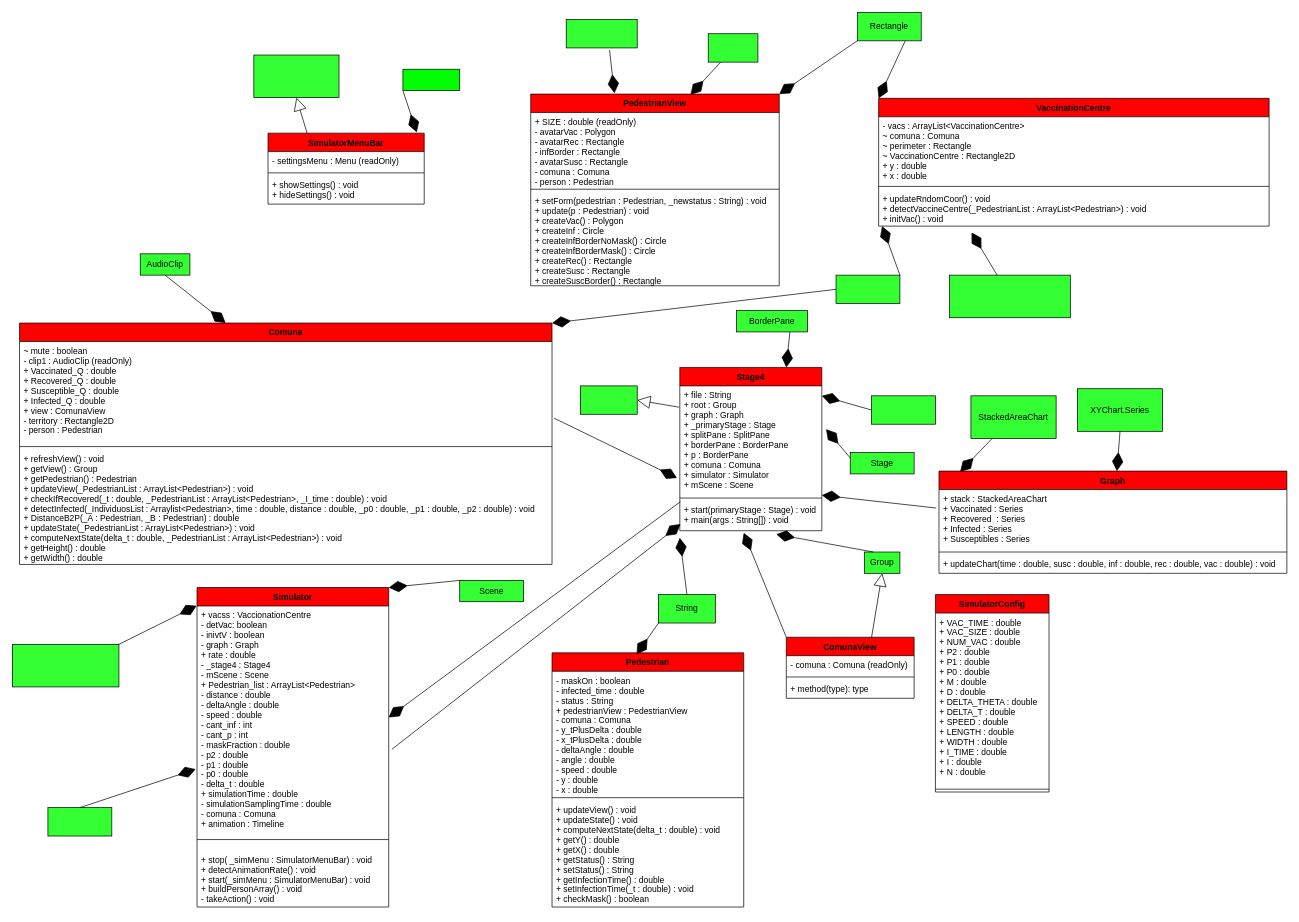
The diagram is 1299 pixels wide and 922 high, and some of its shapes have lost their labels. The centre of each missing label's shape, as x and y in pixels:
"Aplication" belongs at (x=608, y=399).
"ArrayList<Pedestrian>" belongs at (x=65, y=665).
"ArrayList<VaccinationCentre>" belongs at (x=1009, y=296).
"Circle" belongs at (x=733, y=47).
"Menu" belongs at (x=431, y=80).
"MenuBar" belongs at (x=296, y=76).
"Polygon" belongs at (x=601, y=33).
"Rectangle2D" belongs at (x=867, y=289).
"SplitPane" belongs at (x=903, y=409).
"TimeLine" belongs at (x=79, y=821).
